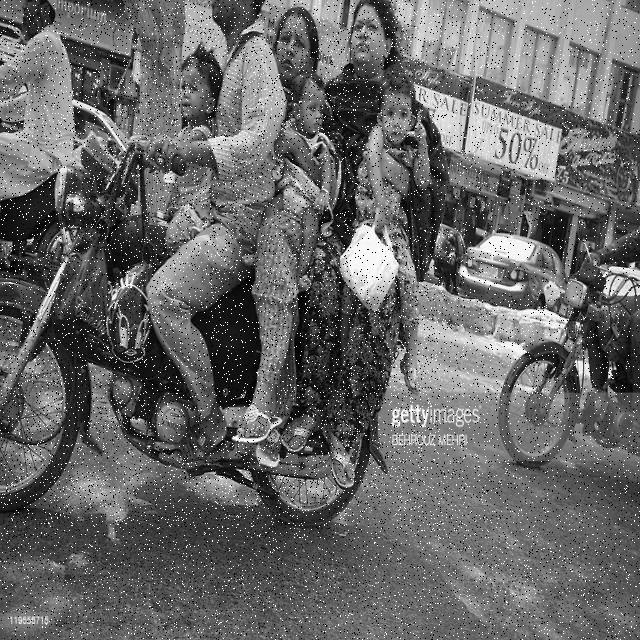Motorbike: (0, 0, 446, 529)
